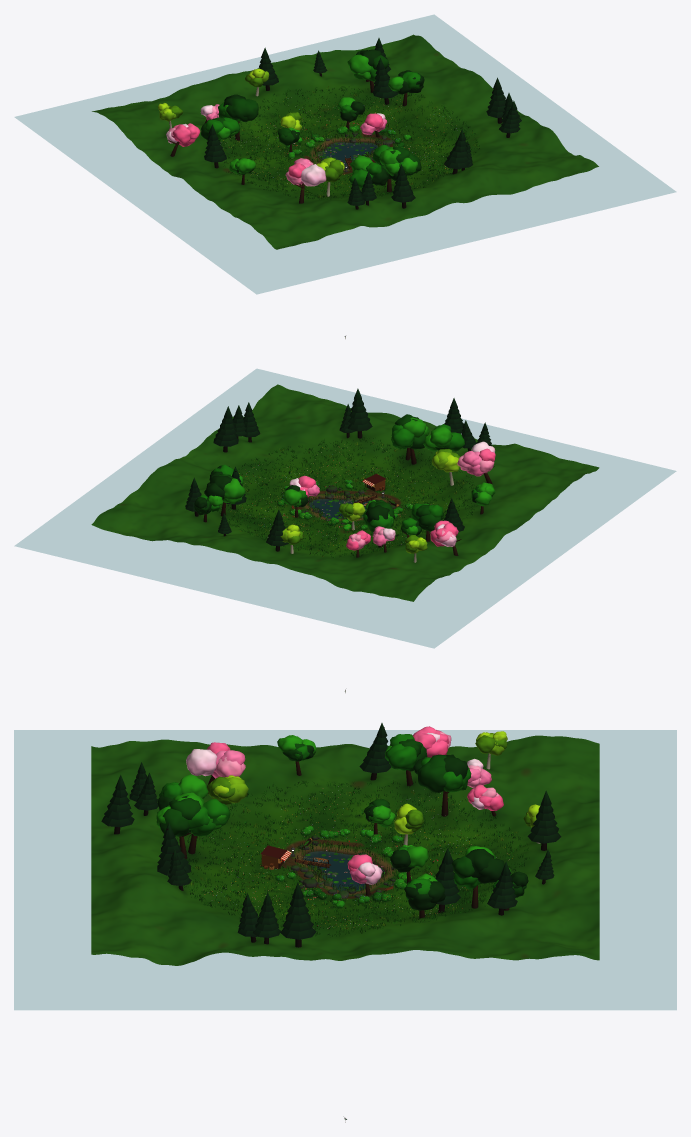
The model's file is pond.glb.
The picture shows the model from 3 angles, top to bottom: view 1: azimuth 30°, elevation 25°; view 2: azimuth 150°, elevation 25°; view 3: azimuth 270°, elevation 25°; orthographic projection. The views are drawn at different scales.
Parts seen in each view (by area): view 1: Terrain, Water, Foliage, Grass, Trunks, Bushes, Reeds; view 2: Terrain, Water, Foliage, Grass, Trunks, Bushes; view 3: Terrain, Water, Foliage, Grass, Bushes, Trunks, Reeds, Rocks.
Boxes of the visible parts, bbox=[...] form: Terrain: bbox=[92, 34, 598, 249]; Water: bbox=[15, 15, 675, 294]; Foliage: bbox=[158, 38, 521, 205]; Grass: bbox=[220, 86, 479, 199]; Trunks: bbox=[168, 61, 515, 209]; Bushes: bbox=[285, 125, 410, 161]; Reeds: bbox=[313, 133, 386, 163]; Terrain: bbox=[91, 384, 599, 601]; Water: bbox=[15, 369, 675, 648]; Foliage: bbox=[185, 388, 495, 553]; Grass: bbox=[217, 437, 478, 557]; Trunks: bbox=[193, 408, 494, 562]; Bushes: bbox=[277, 479, 412, 530]; Terrain: bbox=[91, 735, 599, 965]; Water: bbox=[14, 730, 676, 1009]; Foliage: bbox=[101, 723, 561, 939]; Grass: bbox=[161, 780, 529, 936]; Bushes: bbox=[275, 826, 412, 908]; Trunks: bbox=[114, 727, 549, 947]; Reeds: bbox=[297, 838, 394, 892]; Rocks: bbox=[289, 835, 395, 898].
Size of the model in its own units: 120 by 66.94 by 120.
